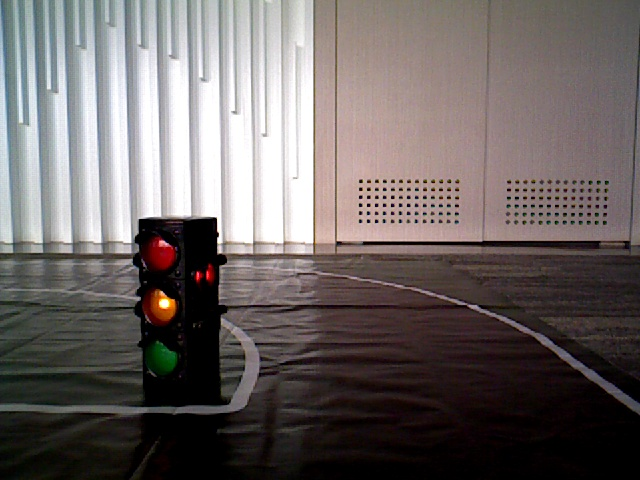yellow: (138, 225, 186, 379)
